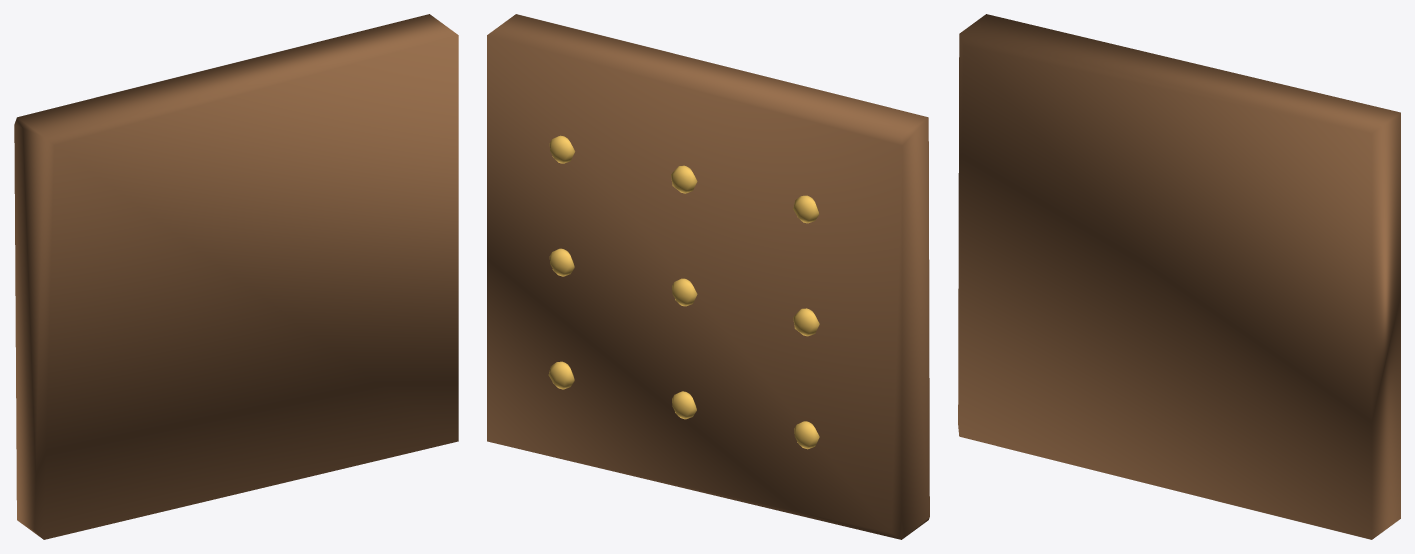
Rendered from farm_plot_seeded.glb.
The picture shows the model from 3 angles, left to right: view 1: azimuth 30°, elevation 25°; view 2: azimuth 150°, elevation 25°; view 3: azimuth 330°, elevation 25°; orthographic projection.
Visible parts, largest first — view 1: Soil; view 2: Soil, Seed.001, Seed.005, Seed.002, Seed.006, Seed.003, Seed.007, Seed.008, Seed.004, Seed; view 3: Soil.
Part boxes in pixels (x1,y1,x2,y2): Soil: [14, 14, 458, 539]; Soil: [487, 14, 929, 539]; Seed.001: [793, 308, 819, 336]; Seed.005: [671, 165, 697, 193]; Seed.002: [793, 195, 819, 223]; Seed.006: [548, 361, 574, 389]; Seed.003: [672, 391, 696, 419]; Seed.007: [549, 248, 574, 276]; Seed.008: [549, 135, 575, 163]; Seed.004: [672, 278, 697, 306]; Seed: [794, 421, 819, 449]; Soil: [958, 14, 1400, 539].
Size of the model in its own units: 1.17 by 1.08 by 0.205.
